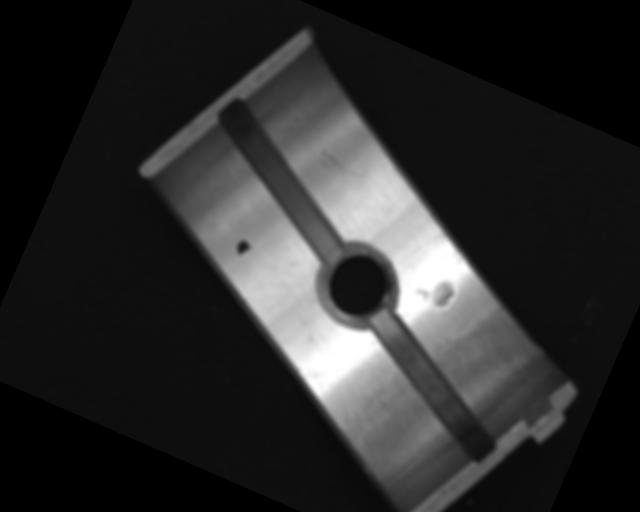blot: (233, 238, 253, 259)
bruise: (411, 269, 459, 312)
gap: (184, 95, 379, 267), (337, 307, 524, 464)
hole: (309, 234, 408, 338)
nick: (314, 147, 370, 185)
